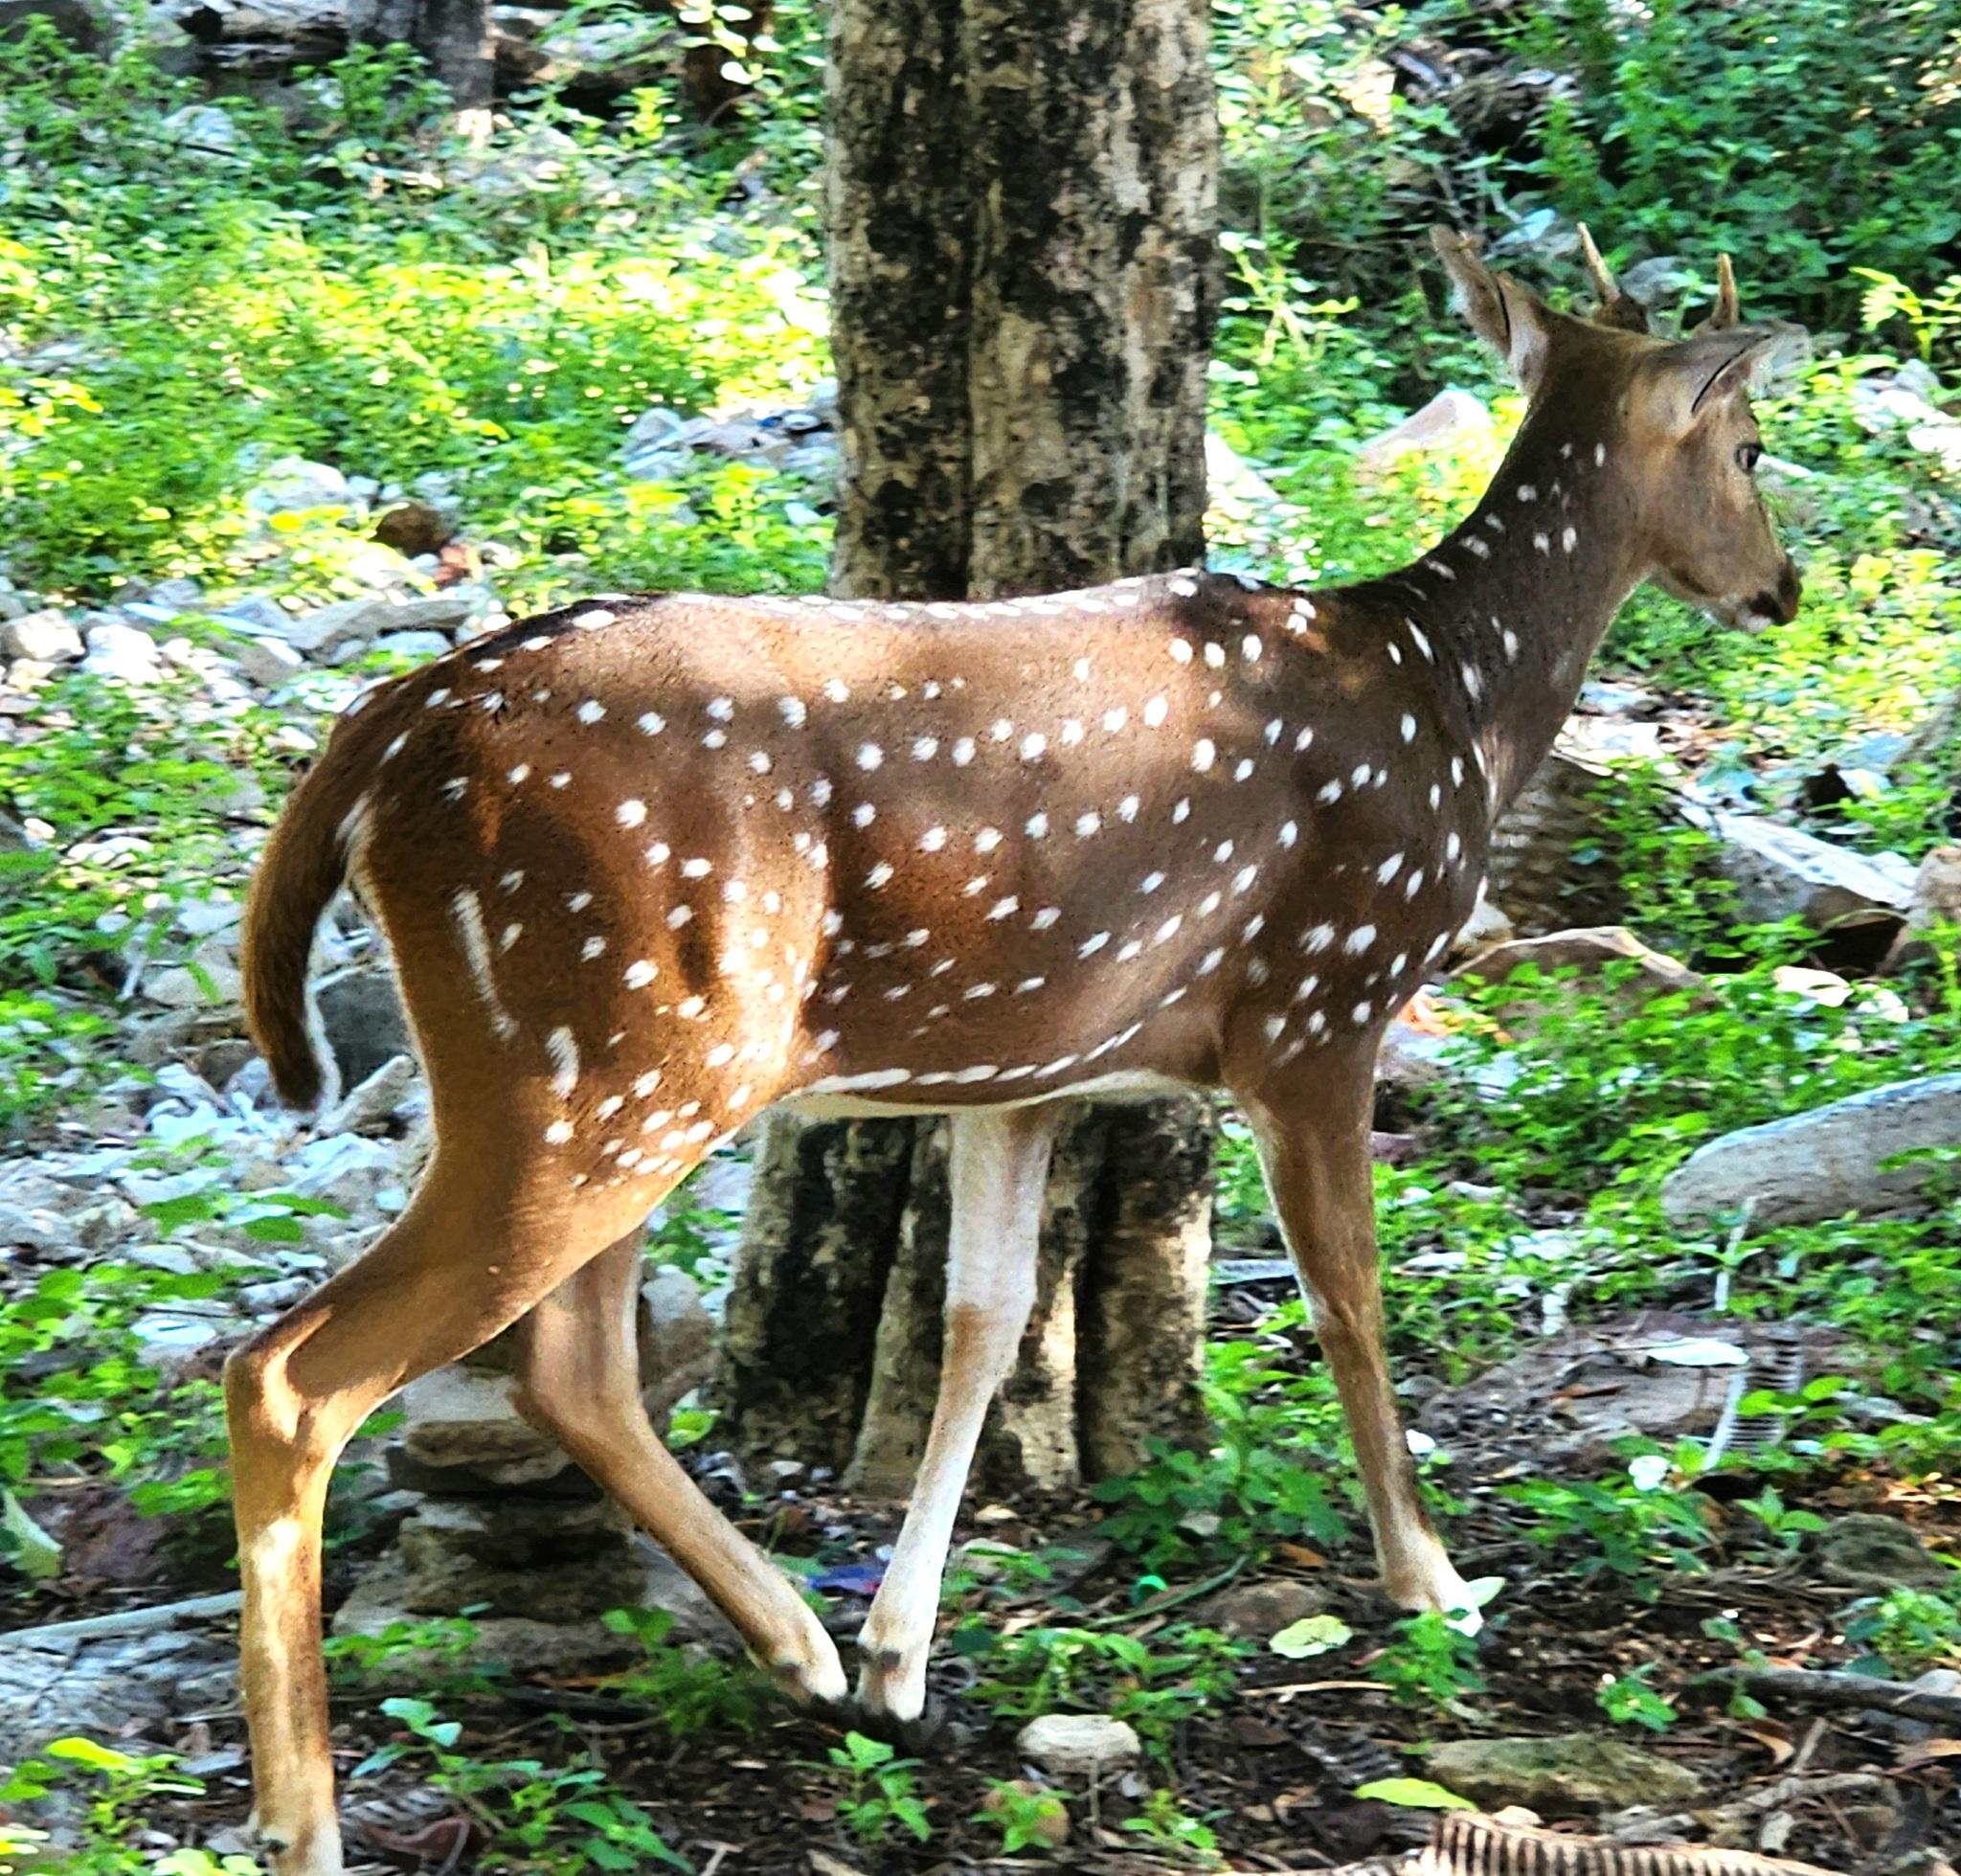Deer: (226, 224, 1798, 1874)
